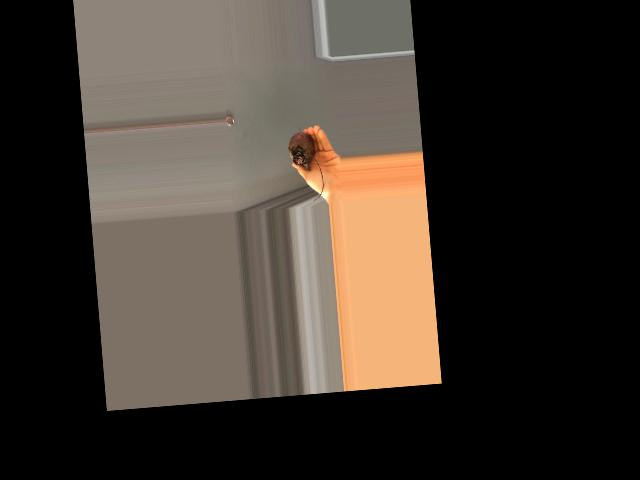beet: (287, 122, 325, 201)
